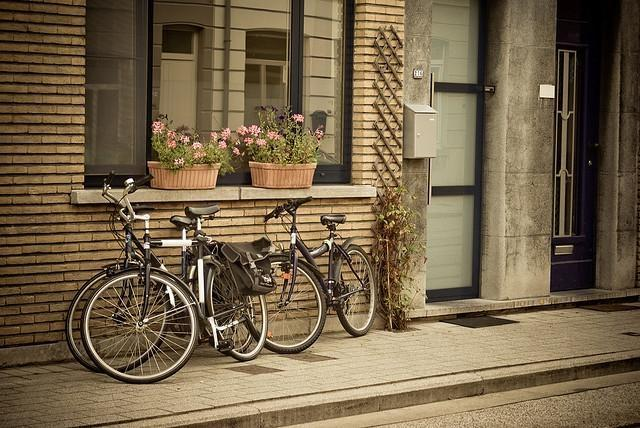bicycle: (86, 176, 270, 386), (66, 185, 196, 373), (266, 200, 376, 350)
